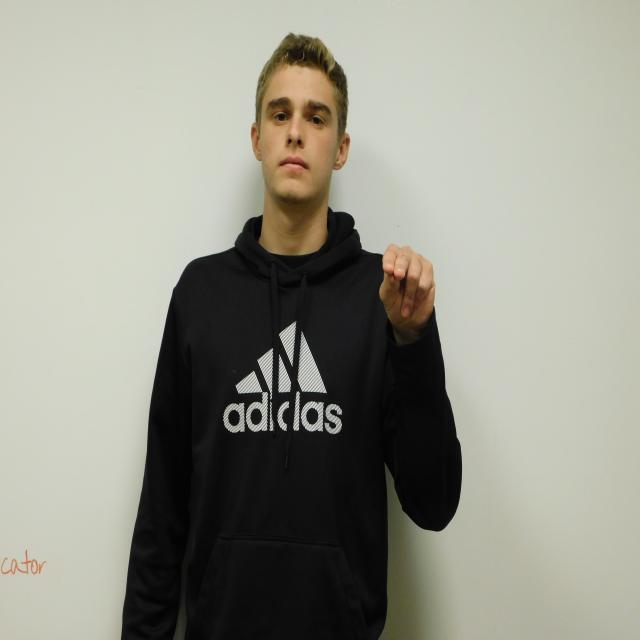no: (380, 243, 436, 329)
